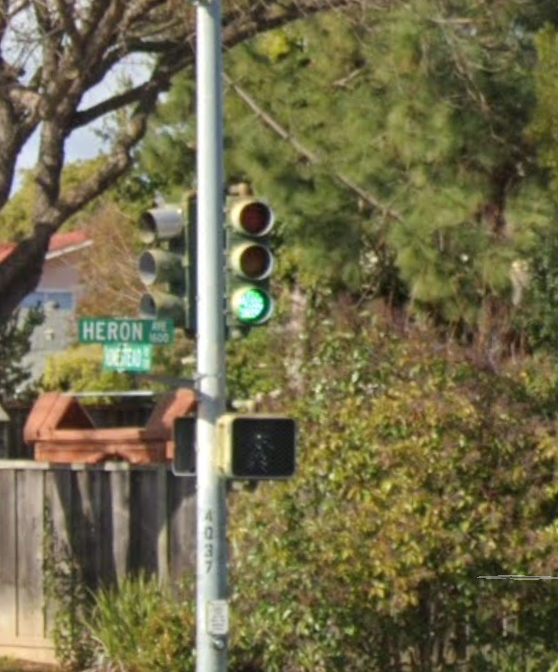green_light: (232, 197, 278, 326)
